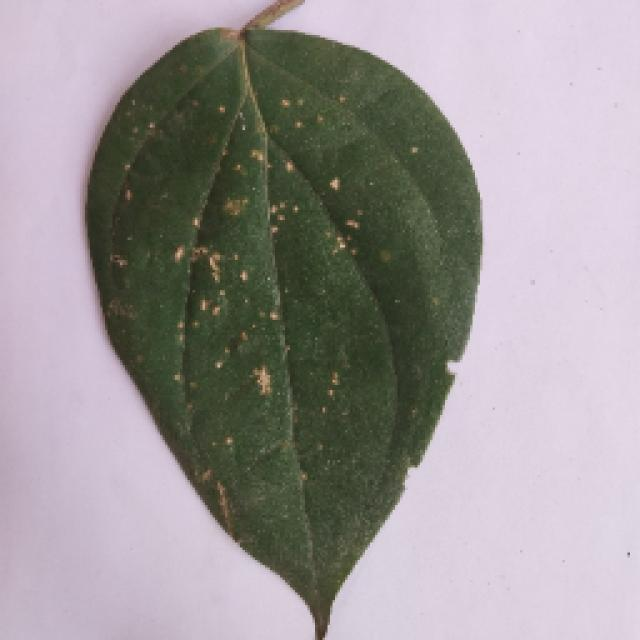pollu-disease: (68, 18, 490, 632)
